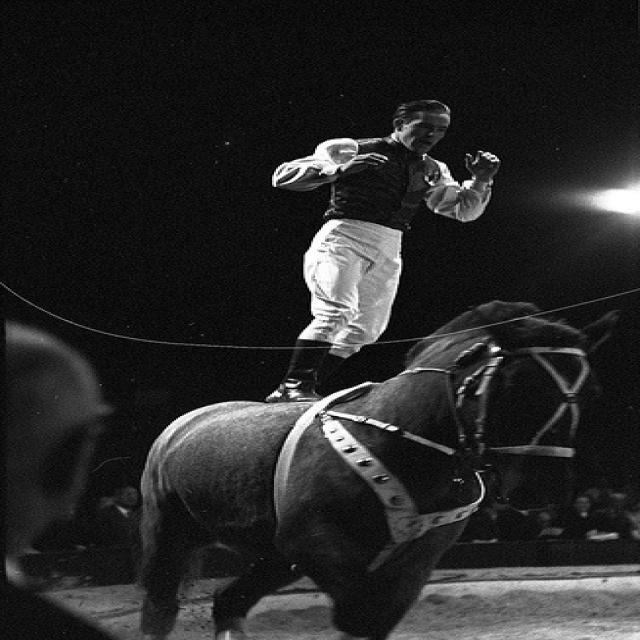horse: (117, 304, 601, 634)
